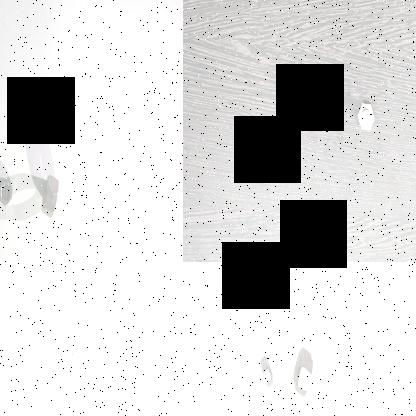Bolts: (282, 92, 302, 140), (356, 98, 376, 136)
NUTS: (34, 165, 64, 233), (290, 346, 318, 416), (259, 347, 277, 397), (0, 166, 17, 216)
